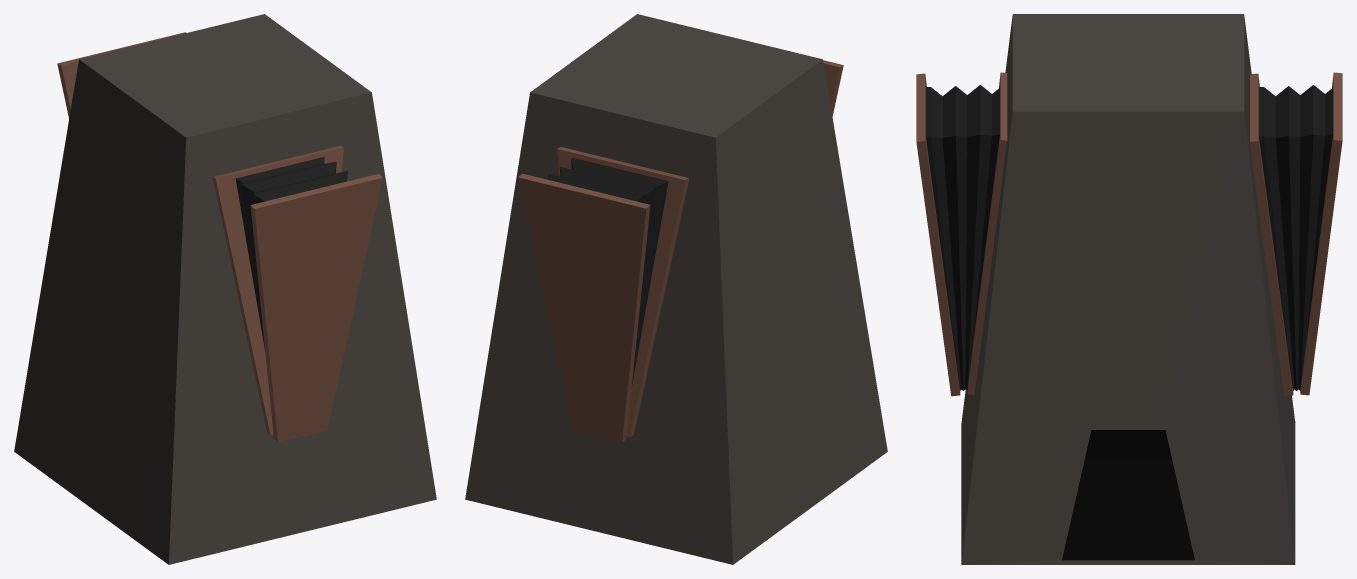
The model's file is bloomery with bellows.glb.
The picture shows the model from 3 angles, left to right: view 1: azimuth 30°, elevation 25°; view 2: azimuth 150°, elevation 25°; view 3: azimuth 270°, elevation 25°; orthographic projection. The views are drawn at different scales.
Parts seen in each view (by area): view 1: bloom, huigo.002, huigo.001; view 2: bloom, huigo.001, huigo.002; view 3: bloom, huigo.001, huigo.002.
Part boxes in pixels (box(x1,y1,x2,y2)): bloom: box(14, 14, 436, 564); huigo.002: box(212, 145, 382, 442); huigo.001: box(57, 32, 186, 118); bloom: box(465, 14, 887, 564); huigo.001: box(518, 147, 689, 442); huigo.002: box(823, 60, 843, 116); bloom: box(961, 14, 1295, 564); huigo.001: box(1250, 72, 1342, 396); huigo.002: box(916, 72, 1007, 396).
Bounding box in the file's own units: 1 × 1.43 × 1.28.
